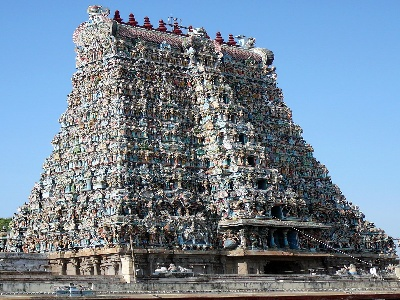gopura: (43, 16, 374, 248)
